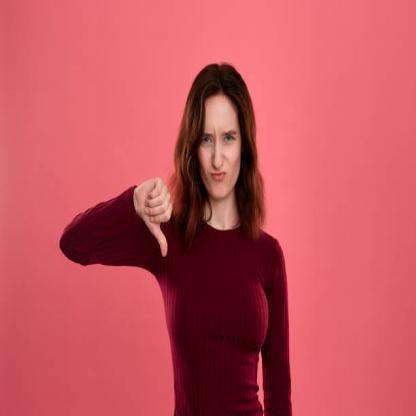thumb_down: (136, 174, 177, 262)
